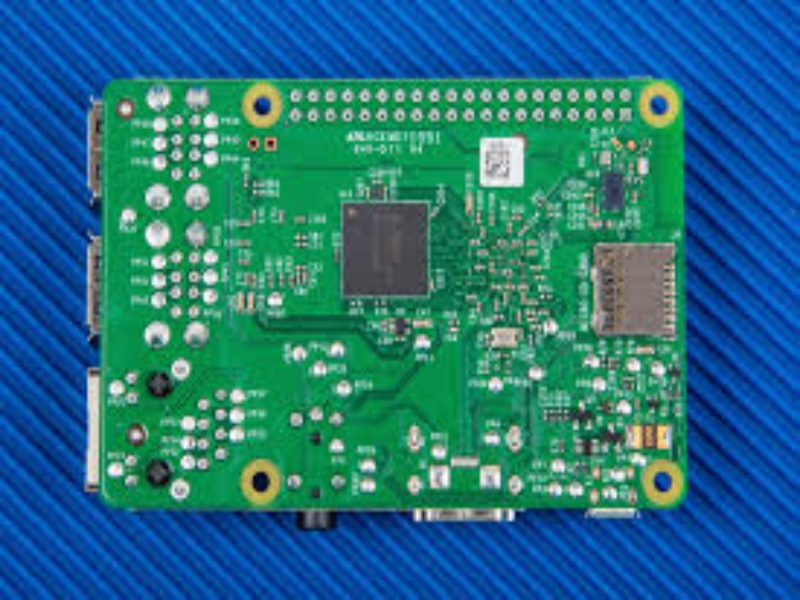raspberrypi: (79, 70, 693, 526)
